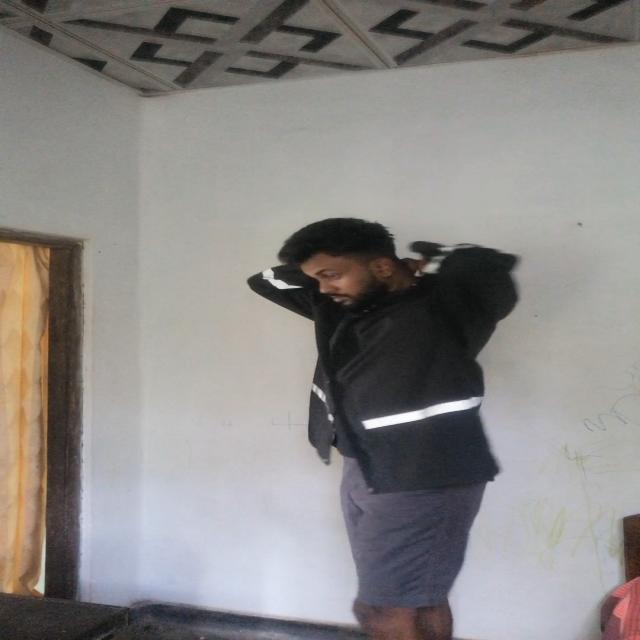Jacket_Wearer: (235, 260, 559, 493)
